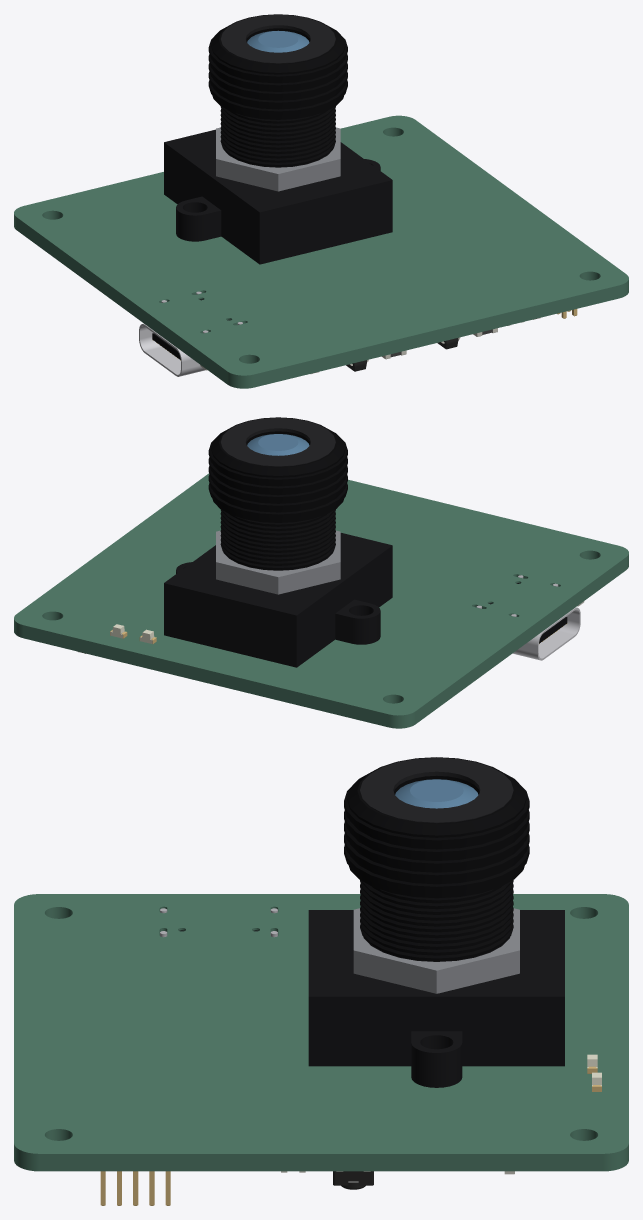
The model's file is apriltag_cam_full.glb.
3 views of the same model, one above another, from view 1: azimuth 30°, elevation 25°; view 2: azimuth 150°, elevation 25°; view 3: azimuth 270°, elevation 25° (orthographic). The views are drawn at different scales.
Visible parts, largest first — view 1: =>[0:1:1:69], c0 (×2), c2, c3, c1, c4; view 2: =>[0:1:1:69], c0 (×2), c2, c3, c1, c4; view 3: =>[0:1:1:69], c0, c2, c3, c1, c4, =>[0:1:1:25], =>[0:1:1:68].
Boxes of the visible parts, <box> form: =>[0:1:1:69]: <box>14,115,628,388</box>; c0 (×2): <box>139,129,392,376</box>; c2: <box>208,14,347,167</box>; c3: <box>220,14,335,63</box>; c1: <box>216,127,340,191</box>; c4: <box>247,30,309,52</box>; =>[0:1:1:69]: <box>14,473,628,728</box>; c0 (×2): <box>164,533,580,667</box>; c2: <box>208,417,347,570</box>; c3: <box>220,417,335,466</box>; c1: <box>216,530,340,594</box>; c4: <box>247,434,309,455</box>; =>[0:1:1:69]: <box>14,894,628,1171</box>; c0: <box>308,910,564,1087</box>; c2: <box>344,757,529,961</box>; c3: <box>360,757,513,823</box>; c1: <box>353,908,519,993</box>; c4: <box>395,779,478,808</box>; =>[0:1:1:25]: <box>100,1171,170,1205</box>; =>[0:1:1:68]: <box>333,1171,373,1189</box>.
Size of the model in its own units: 0.048 by 0.0261 by 0.048.
